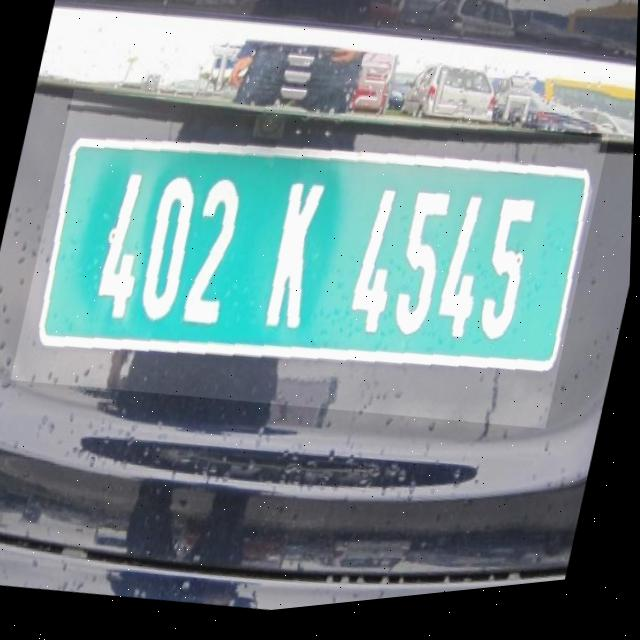LicensePlate: (10, 48, 613, 485)
